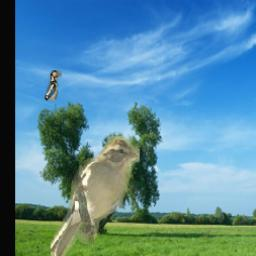Sparrow: (51, 137, 140, 256)
Woodpecker: (44, 70, 61, 100)
